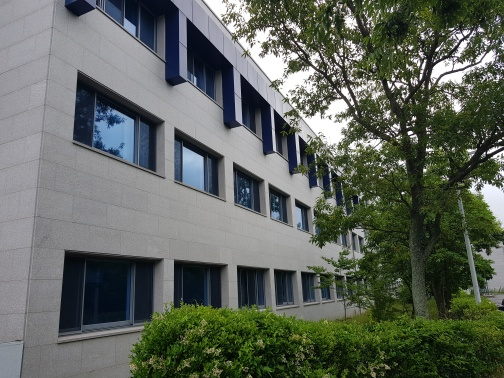College of Social Sciences: (15, 1, 394, 330)
